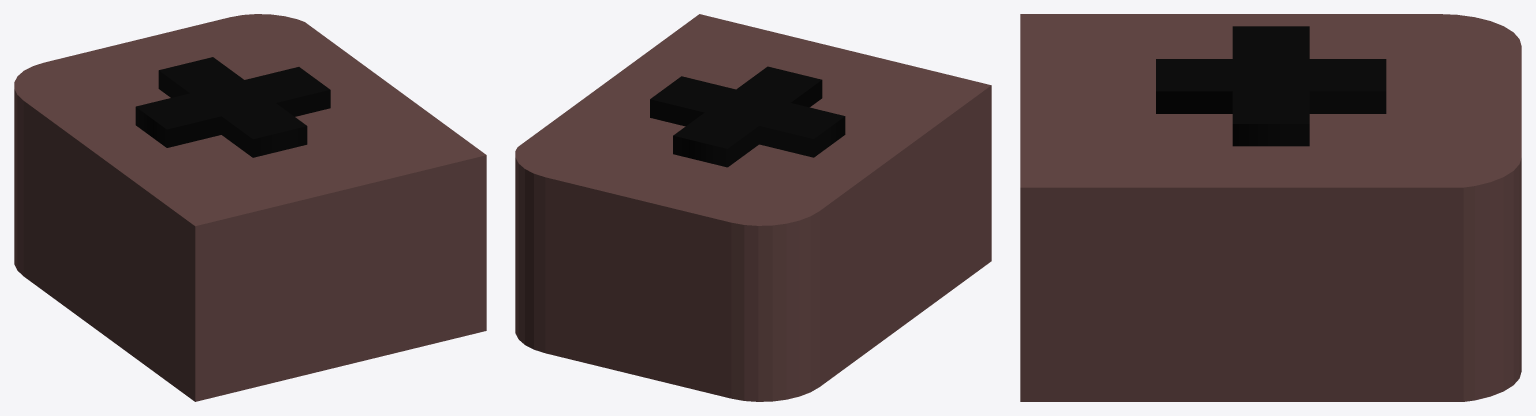
Rendered from QuantityPlus.glb.
The picture shows the model from 3 angles, left to right: view 1: azimuth 30°, elevation 25°; view 2: azimuth 150°, elevation 25°; view 3: azimuth 270°, elevation 25°; orthographic projection. The views are drawn at different scales.
Parts seen in each view (by area): view 1: Cube.003, Text; view 2: Cube.003, Text; view 3: Cube.003, Text.
Boxes of the visible parts, <box> form: Cube.003: <box>14,14,486,401</box>; Text: <box>135,57,330,157</box>; Cube.003: <box>515,14,991,401</box>; Text: <box>650,66,845,167</box>; Cube.003: <box>1020,14,1521,401</box>; Text: <box>1156,26,1386,146</box>.
Bounding box in the file's own units: 0.4613 × 0.2937 × 0.5631.
